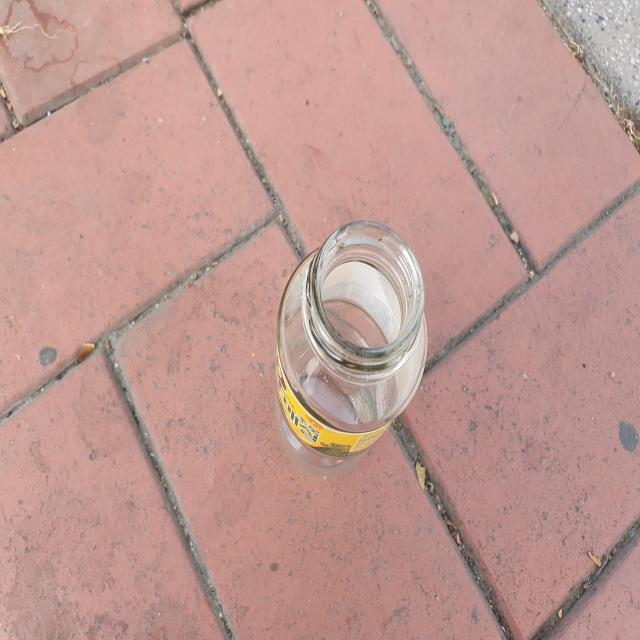glass: (276, 221, 428, 476)
